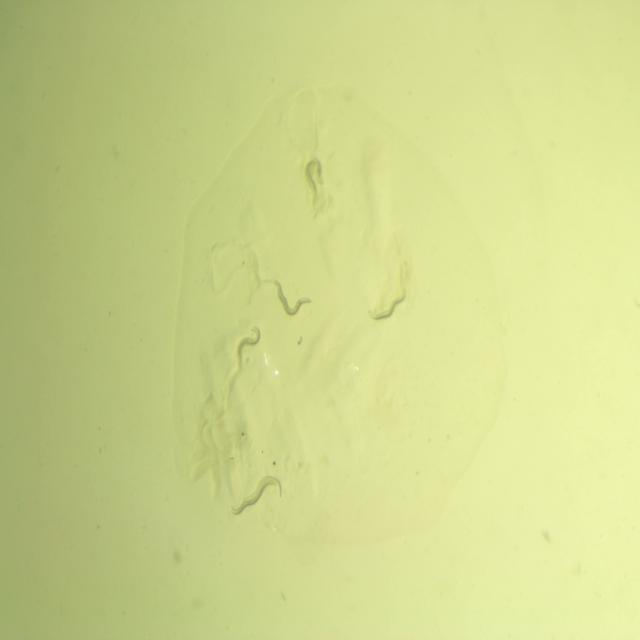worm: (365, 281, 410, 340), (226, 480, 281, 528), (262, 272, 314, 322), (233, 318, 266, 373), (240, 471, 284, 511), (302, 152, 328, 210)
